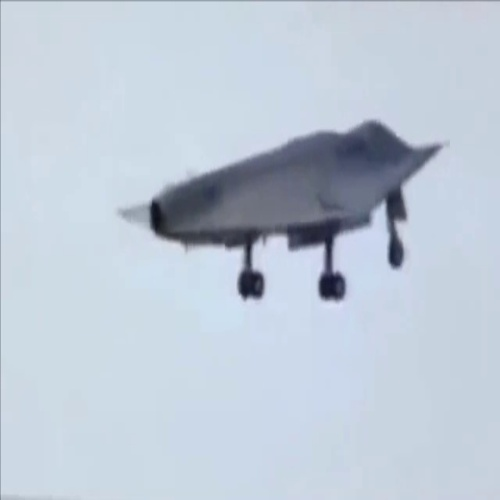uav: (107, 116, 450, 306)
